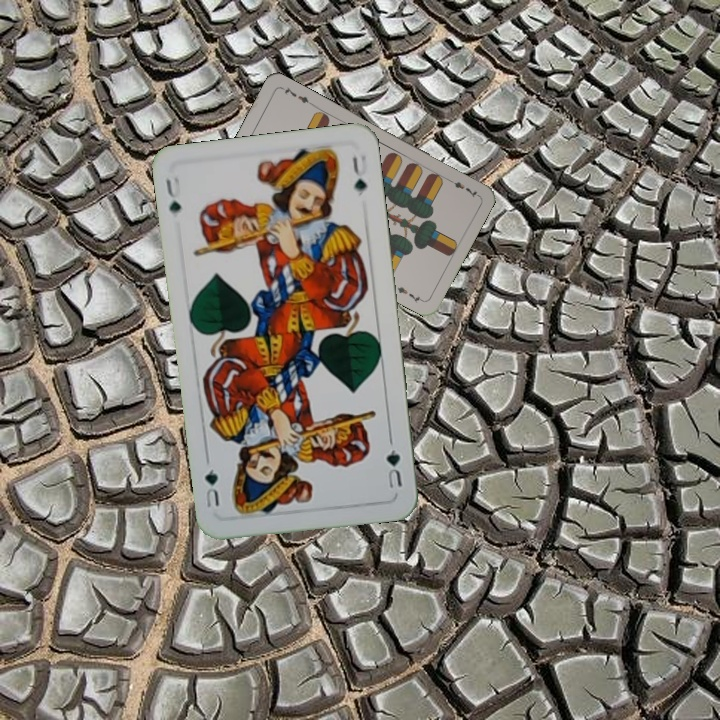E7: (443, 174, 480, 200)
GU: (381, 435, 405, 491), (162, 172, 184, 217)
